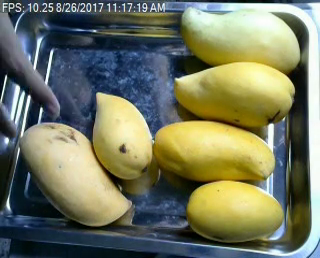Mango: (18, 122, 132, 227), (181, 7, 300, 75), (153, 120, 275, 182), (176, 61, 294, 125), (186, 181, 284, 243), (92, 91, 152, 179)
